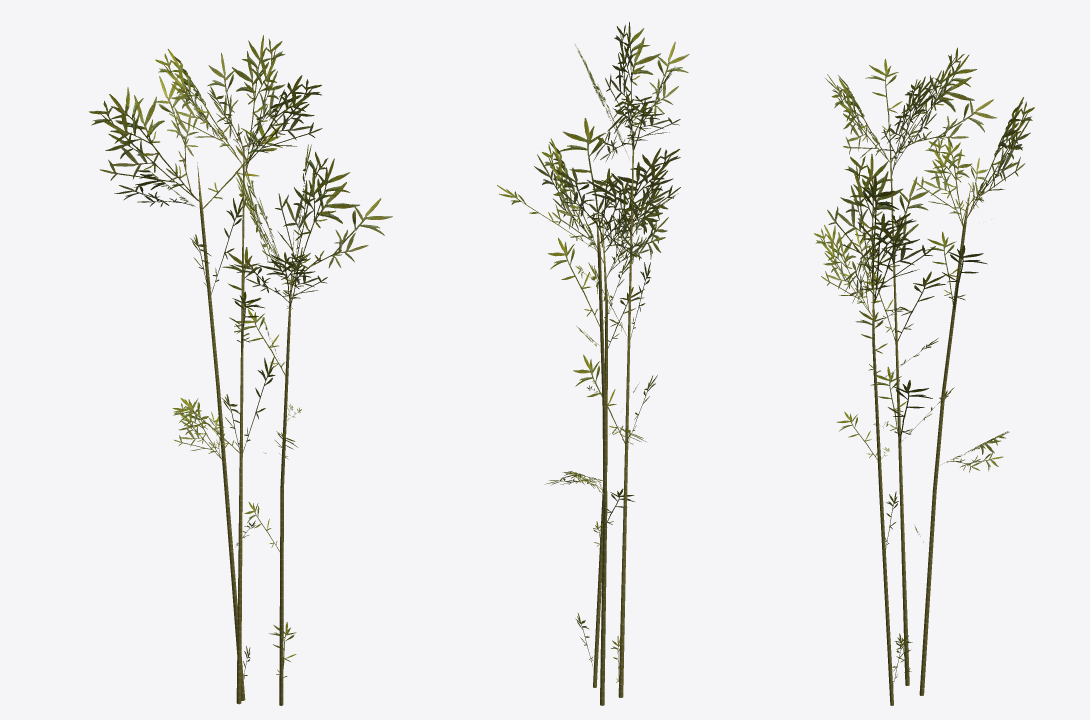
Rendered from leaf_bamboo_tri_yllw_l0.fbx.
3 renders of one model, left to right at view 1: azimuth 30°, elevation 25°; view 2: azimuth 150°, elevation 25°; view 3: azimuth 270°, elevation 25°, orthographic. The views are drawn at different scales.
Parts seen in each view (by area): view 1: mesh_node; view 2: mesh_node; view 3: mesh_node.
Boxes of the visible parts, <box> form: mesh_node: <box>89,35,392,705</box>; mesh_node: <box>497,22,689,705</box>; mesh_node: <box>814,47,1034,705</box>.
Bounding box in the file's own units: 5.64 × 11.46 × 4.94.
